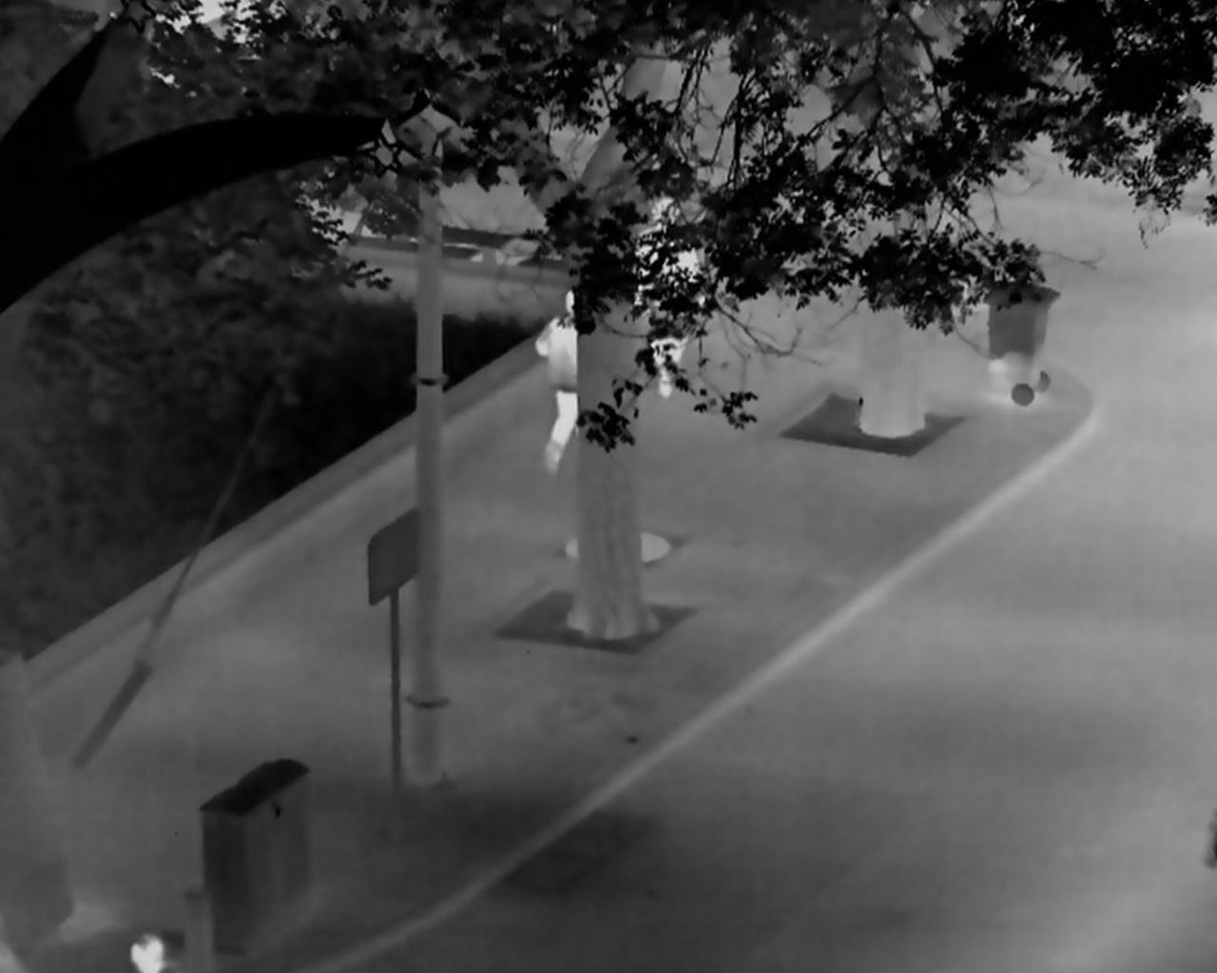person: (632, 194, 708, 399), (533, 289, 579, 477), (127, 930, 173, 973)
